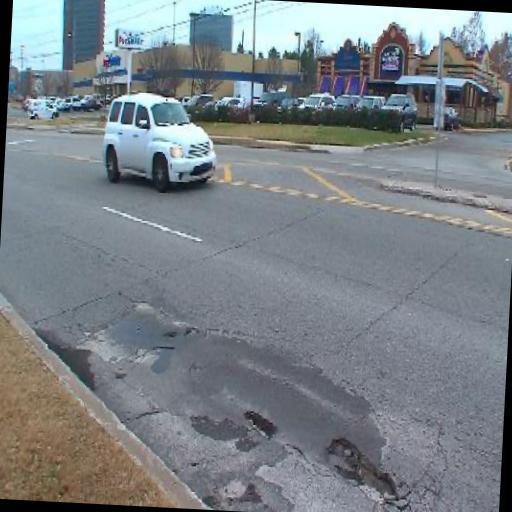pothole: (323, 432, 402, 504), (242, 404, 278, 436), (182, 320, 198, 340), (162, 324, 178, 338)
